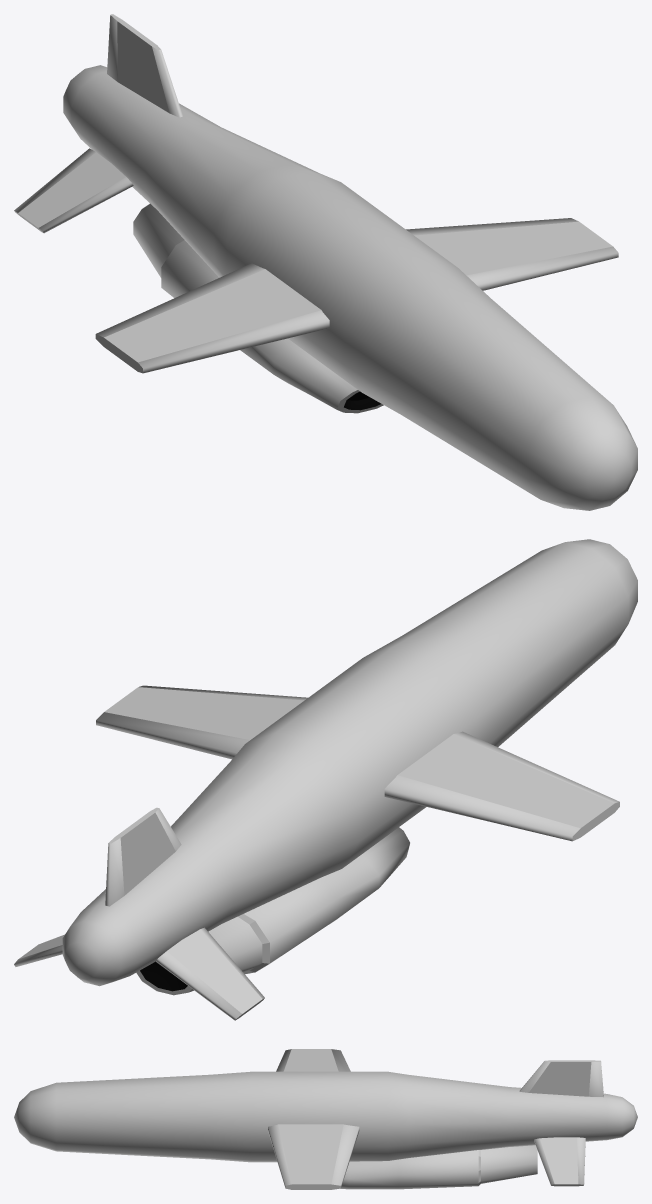
File: drone.fbx
The picture shows the model from 3 angles, top to bottom: view 1: azimuth 30°, elevation 25°; view 2: azimuth 150°, elevation 25°; view 3: azimuth 270°, elevation 25°; orthographic projection. The views are drawn at different scales.
Parts seen in each view (by area): view 1: drone; view 2: drone; view 3: drone.
Part boxes in pixels (<box>): drone: <box>14,14,637,510</box>; drone: <box>14,539,637,1020</box>; drone: <box>14,1049,637,1189</box>.
Bounding box in the file's own units: 418 × 178 × 813.
